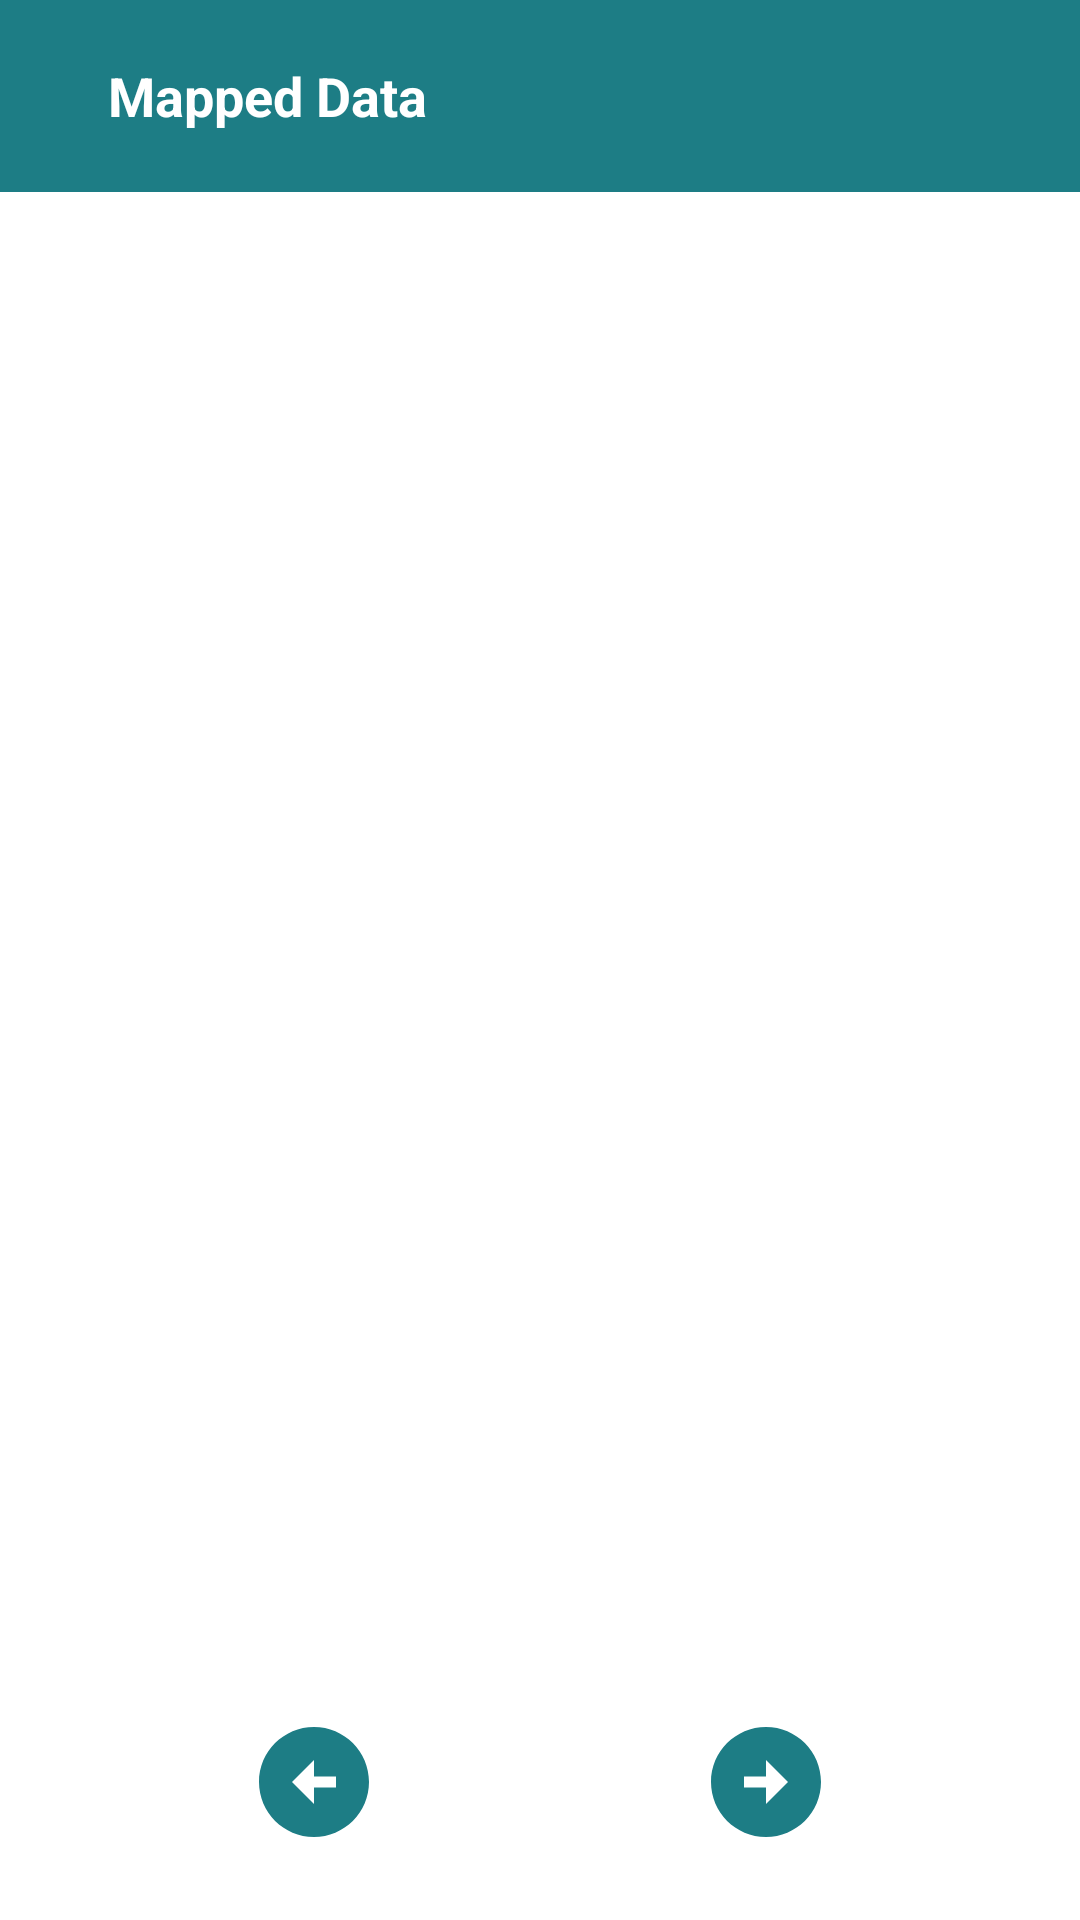

Icons on this 1080*1920 Android screen, each with its box as (x1, y1, x2, y2):
arrow circle left: (259, 1727, 369, 1837)
arrow circle right: (711, 1727, 821, 1837)
